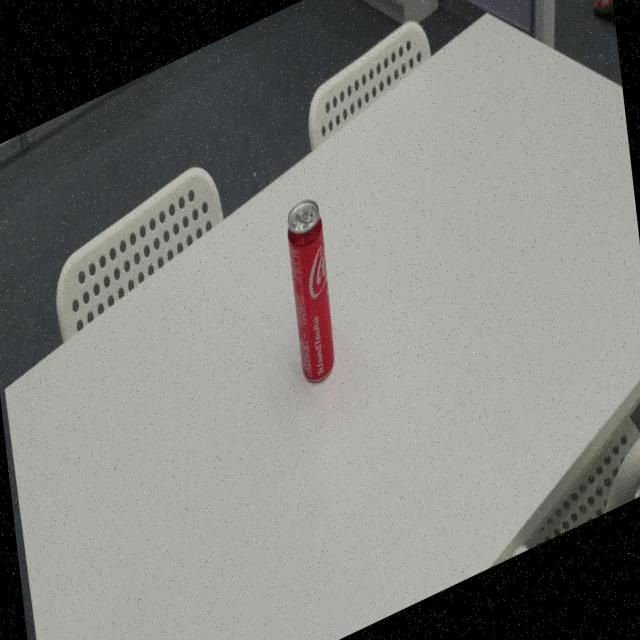coca-cola: (282, 189, 340, 395)
